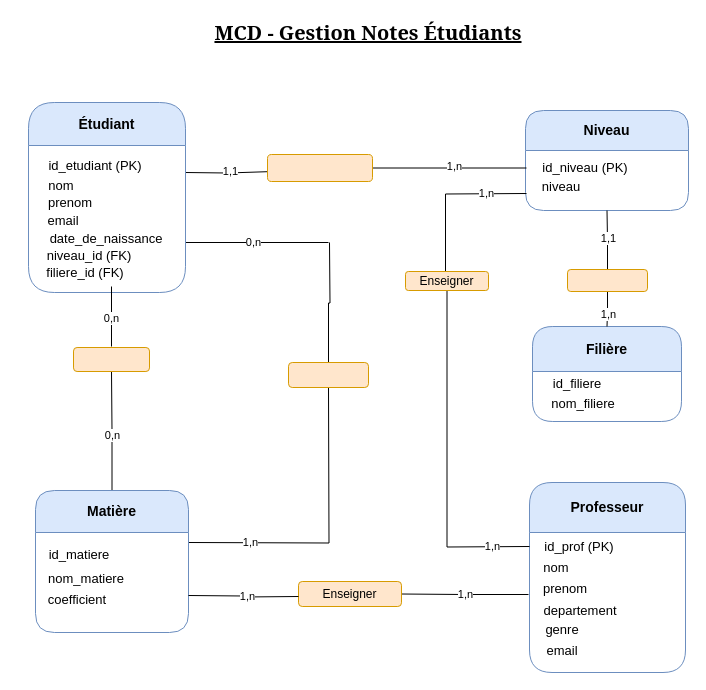
Some shapes in this 706 by 690 pixel diagram are drawn without their labels. Each missing label, with the centre of its shape:
Appartenir: the point at 607,280
Composer: the point at 111,359
Inscrire: the point at 319,168
Suivre: the point at 328,375
